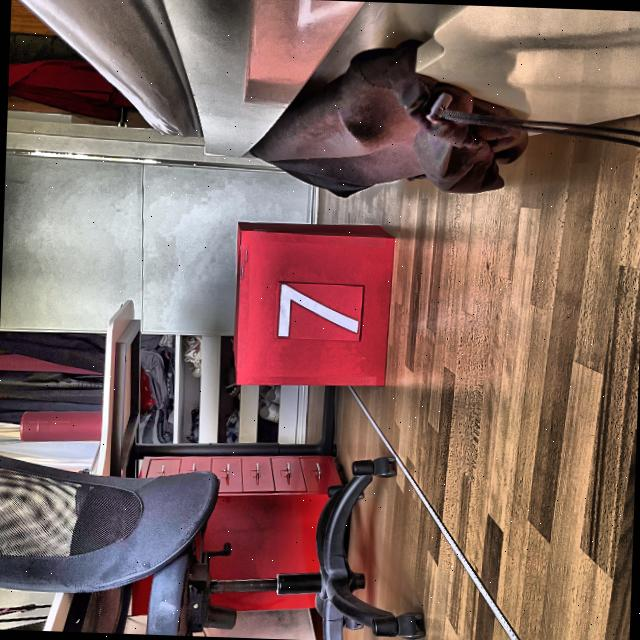red box: (231, 218, 392, 388)
seven: (278, 282, 361, 340)
